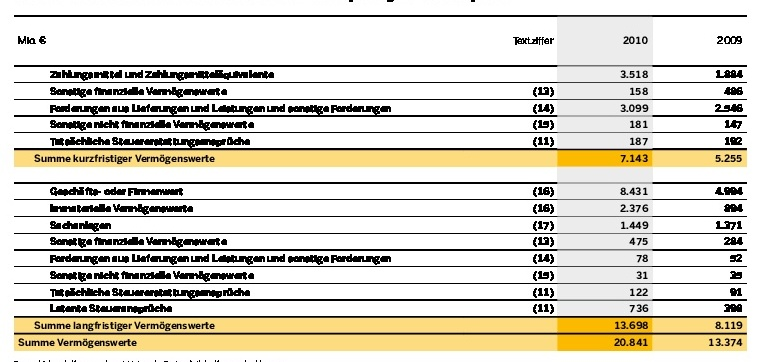table: (0, 0, 763, 362)
